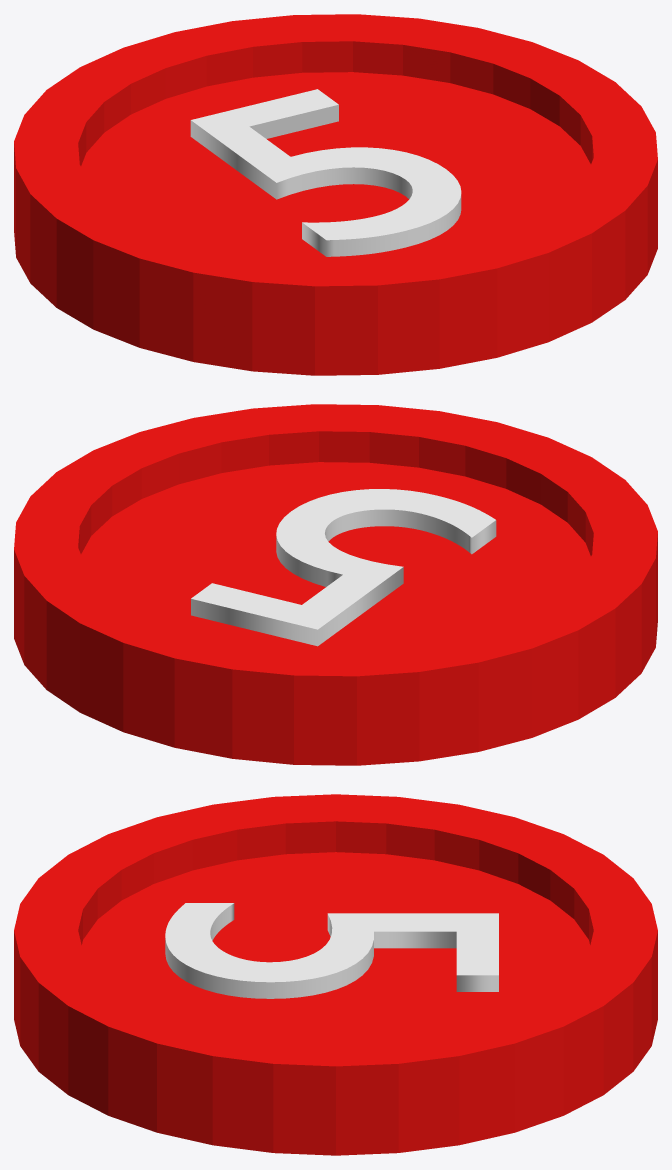
File: moneta_5.fbx
3 views of the same model, one above another, from view 1: azimuth 30°, elevation 25°; view 2: azimuth 150°, elevation 25°; view 3: azimuth 270°, elevation 25° (orthographic).
Parts seen in each view (by area): view 1: MONETA_5, NOMINAL_G; view 2: MONETA_5, NOMINAL_G; view 3: MONETA_5, NOMINAL_G.
Boxes of the visible parts, x1=… form: MONETA_5: x1=14, y1=14, x2=657, y2=375; NOMINAL_G: x1=190, y1=89, x2=461, y2=256; MONETA_5: x1=14, y1=404, x2=657, y2=765; NOMINAL_G: x1=191, y1=489, x2=496, y2=646; MONETA_5: x1=14, y1=794, x2=657, y2=1155; NOMINAL_G: x1=165, y1=903, x2=498, y2=998.
Size of the model in its own units: 200 by 30.58 by 200.
